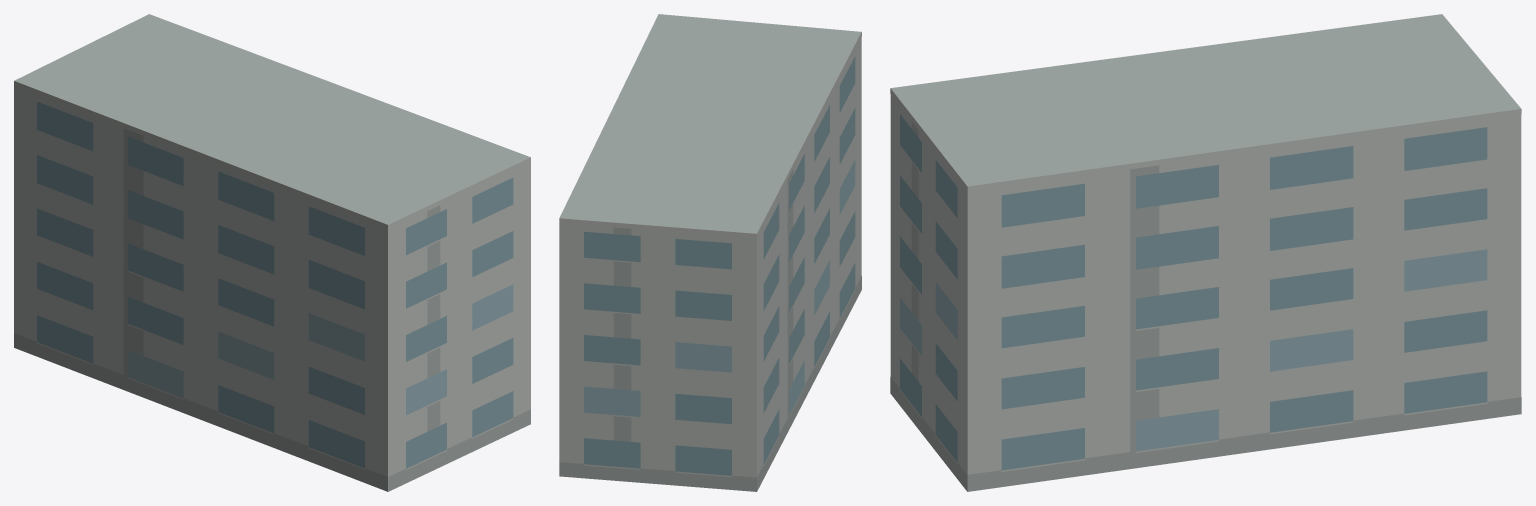
File: survey-upis-32568645.glb
The picture shows the model from 3 angles, left to right: view 1: azimuth 30°, elevation 25°; view 2: azimuth 150°, elevation 25°; view 3: azimuth 270°, elevation 25°; orthographic projection. The views are drawn at different scales.
Visible parts, largest first — view 1: survey-upis-32568645.tmp; view 2: survey-upis-32568645.tmp; view 3: survey-upis-32568645.tmp.
Part boxes in pixels (x1,y1,x2,y2): survey-upis-32568645.tmp: (14,14,530,491); survey-upis-32568645.tmp: (559,14,861,491); survey-upis-32568645.tmp: (890,14,1521,491).
Size of the model in its own units: 15.89 by 13.1 by 24.55.
